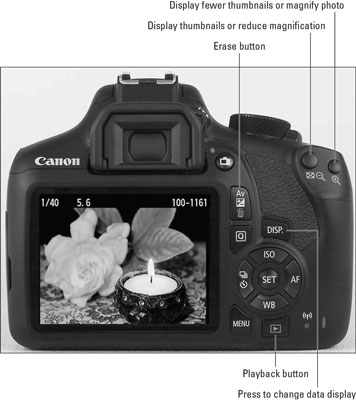camera: (9, 78, 347, 352)
